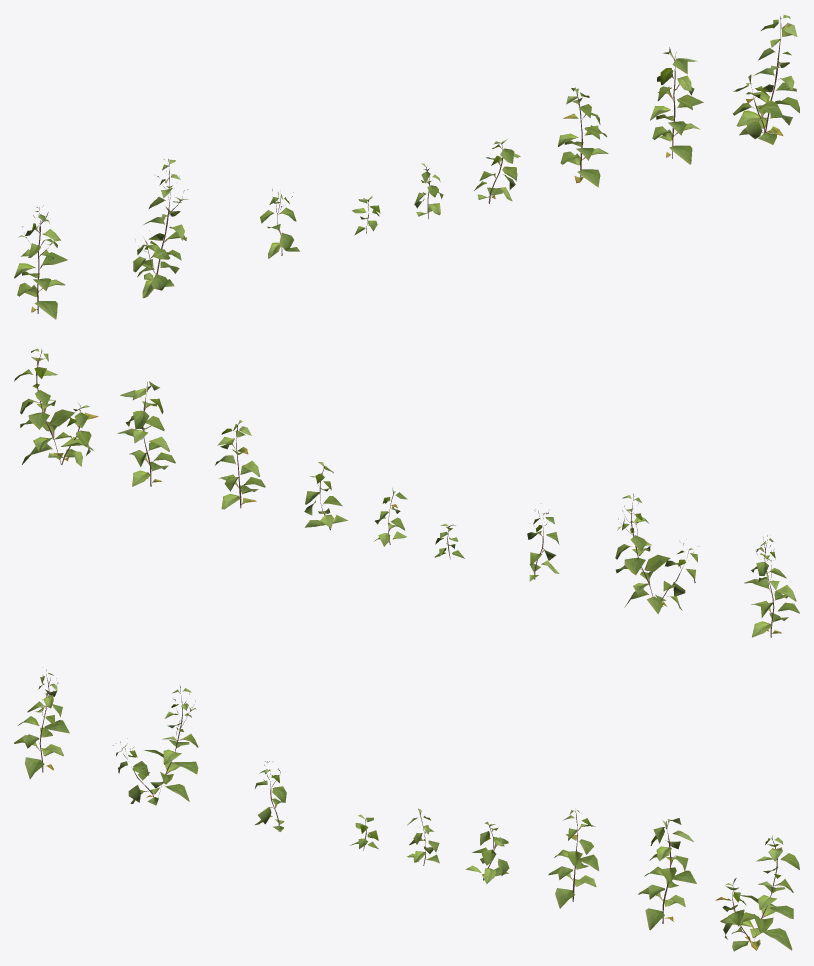
The model's file is shrub1.glb.
The picture shows the model from 3 angles, top to bottom: view 1: azimuth 30°, elevation 25°; view 2: azimuth 150°, elevation 25°; view 3: azimuth 330°, elevation 25°; orthographic projection. The views are drawn at different scales.
Parts seen in each view (by area): view 1: shrub_01_a; view 2: shrub_01_a; view 3: shrub_01_a.
Boxes of the visible parts, bbox=[...] form: shrub_01_a: bbox=[14, 14, 799, 319]; shrub_01_a: bbox=[14, 348, 799, 637]; shrub_01_a: bbox=[14, 669, 799, 951].
Bounding box in the file's own units: 2.59 × 0.3782 × 0.2059.
Materials: 1 (1 with a texture image).
